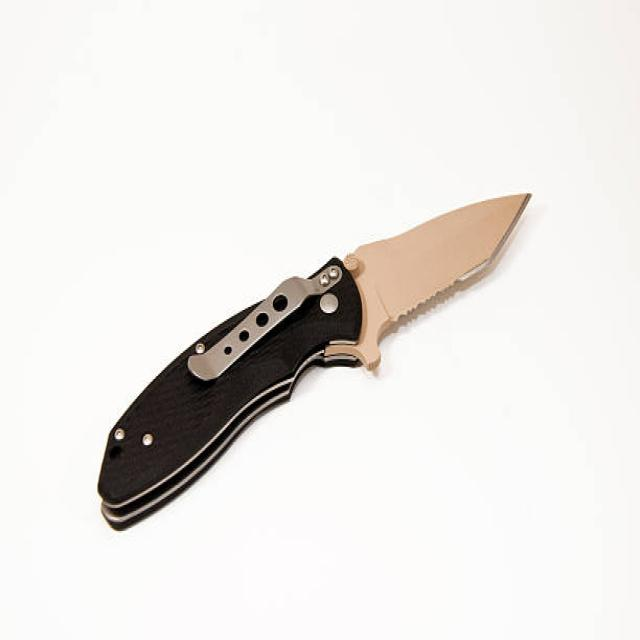knife: (92, 181, 546, 546)
